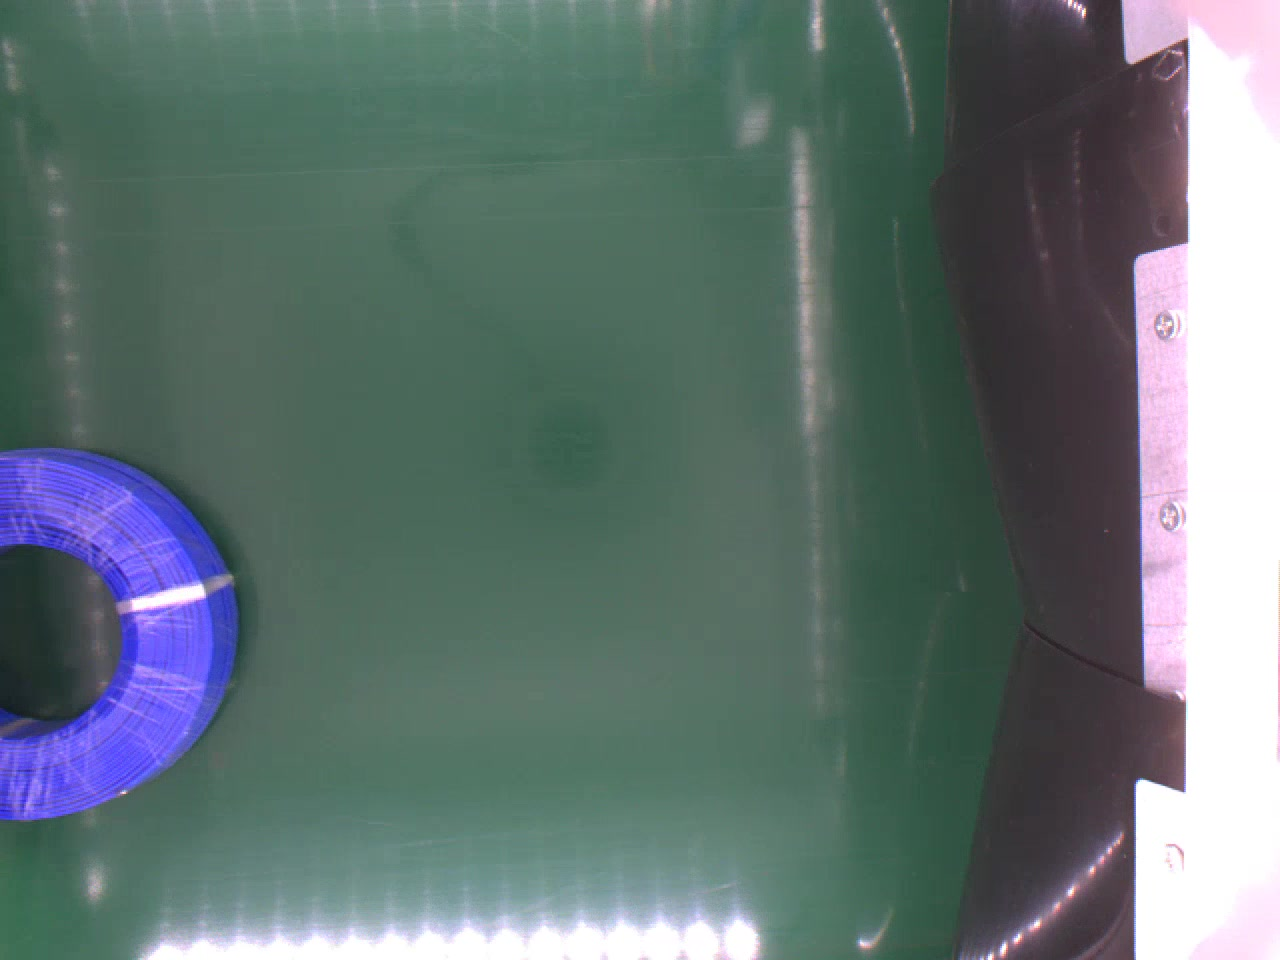blue: (0, 441, 246, 826)
